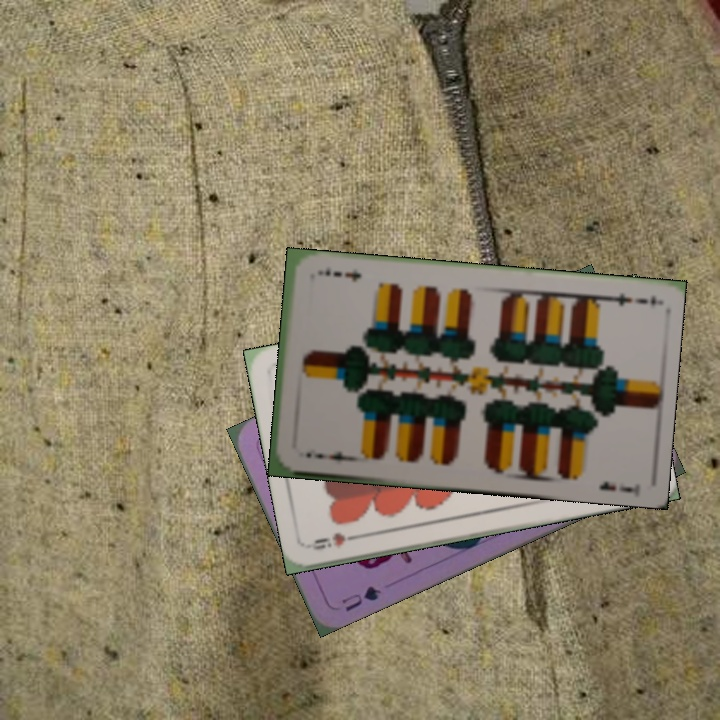E7: (599, 289, 650, 309), (302, 447, 354, 464)
GU: (338, 582, 384, 615)
H9: (306, 528, 365, 553)
